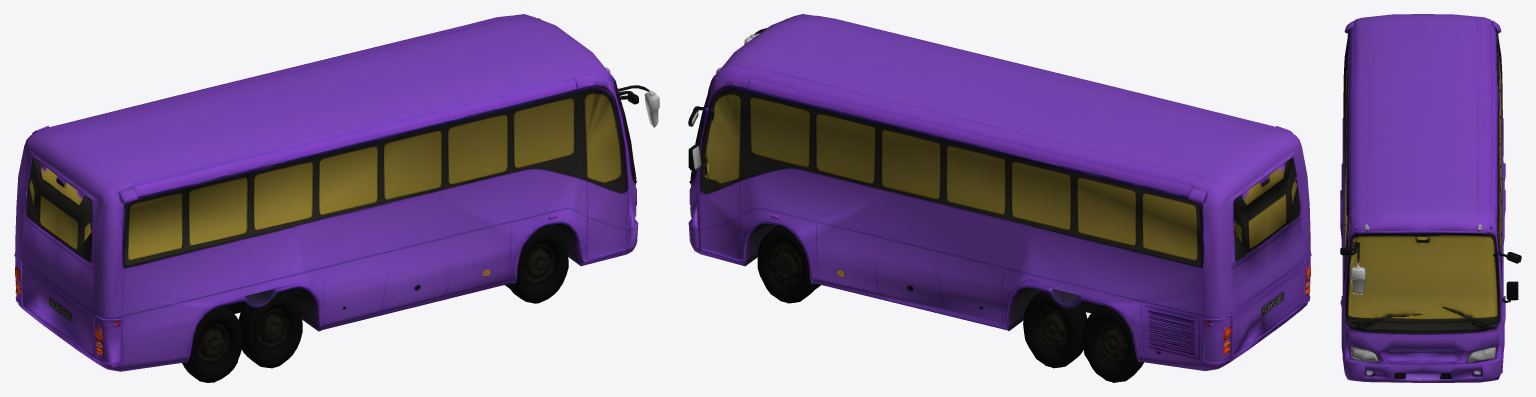
File: r33-bus.glb
The picture shows the model from 3 angles, left to right: view 1: azimuth 30°, elevation 25°; view 2: azimuth 150°, elevation 25°; view 3: azimuth 270°, elevation 25°; orthographic projection. The views are drawn at different scales.
Parts seen in each view (by area): view 1: tripo_node_b52aaf86-4740-43a6-9d26-5f638e461189; view 2: tripo_node_b52aaf86-4740-43a6-9d26-5f638e461189; view 3: tripo_node_b52aaf86-4740-43a6-9d26-5f638e461189.
Part boxes in pixels (x1,y1,x2,y2): tripo_node_b52aaf86-4740-43a6-9d26-5f638e461189: (14,14,659,382); tripo_node_b52aaf86-4740-43a6-9d26-5f638e461189: (688,14,1311,382); tripo_node_b52aaf86-4740-43a6-9d26-5f638e461189: (1340,14,1521,382).
Bounding box in the file's own units: 0.998 × 0.377 × 0.334.
Materials: 1 (1 with a texture image).
